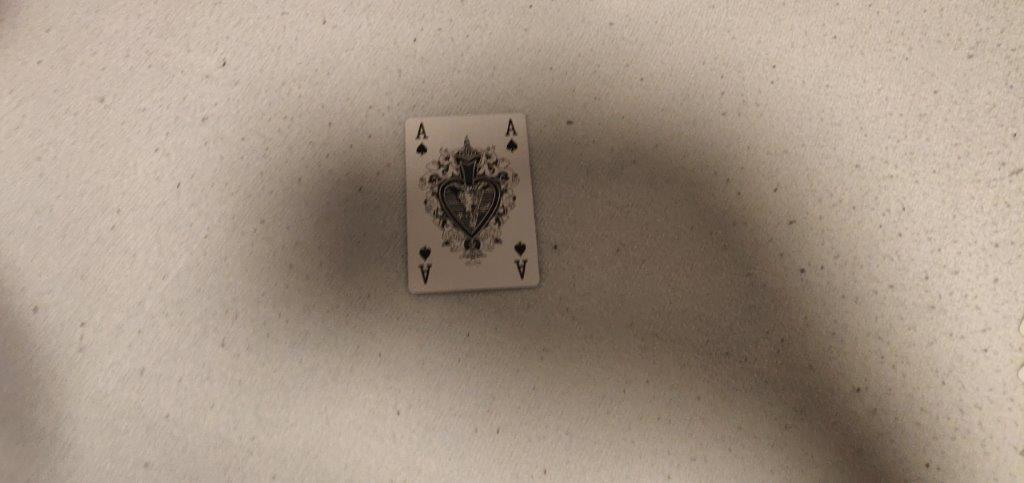AS: (501, 116, 521, 157), (412, 121, 433, 158)
